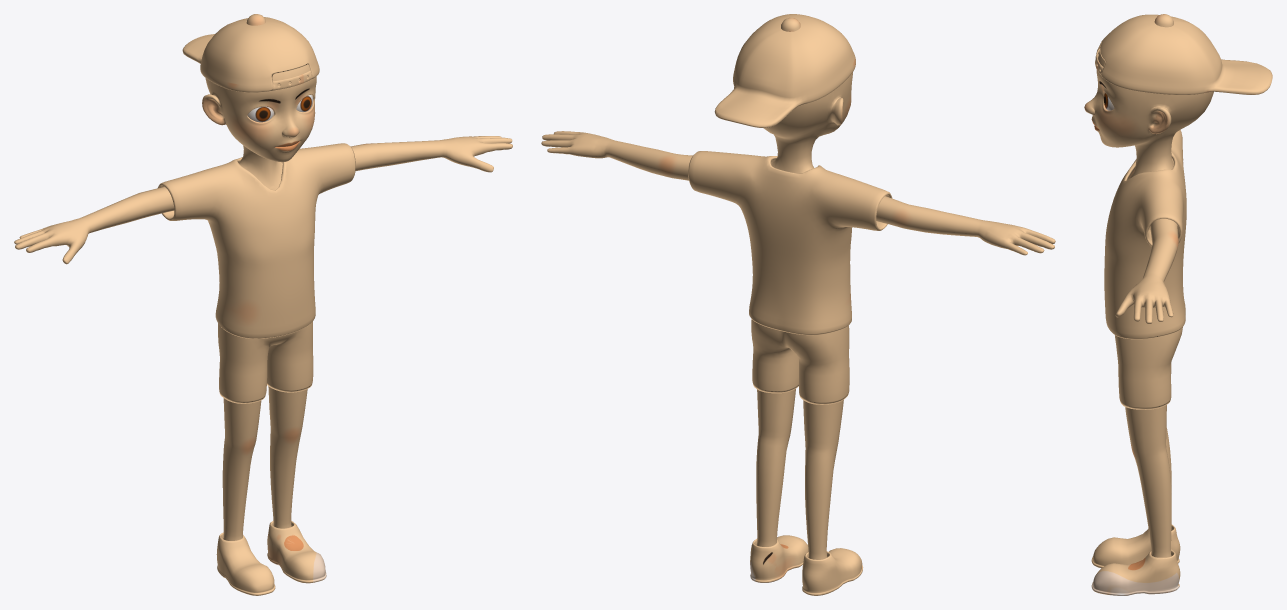
Rendered from Character_1.fbx.
3 renders of one model, left to right at view 1: azimuth 30°, elevation 25°; view 2: azimuth 150°, elevation 25°; view 3: azimuth 270°, elevation 25°, orthographic. The views are drawn at different scales.
Visible parts, largest first — view 1: Shirt, Face, HatBase, Pants, Leg_Left, Arm_Left, Leg_Right, Arm_Right, Shoe_Right, Shoe_Left; view 2: Shirt, HatBase, Pants, Leg_Left, Leg_Right, Arm_Left, Face, Arm_Right, Shoe_Left, Shoe_Right; view 3: Shirt, HatBase, Face, Leg_Right, Pants, Arm_Right, Shoe_Right, Shoe_Left.
Part boxes in pixels (bbox=[...]): Shirt: bbox=[158, 143, 355, 338]; Face: bbox=[202, 64, 316, 190]; HatBase: bbox=[182, 17, 319, 92]; Pants: bbox=[218, 321, 313, 403]; Leg_Left: bbox=[222, 398, 261, 540]; Arm_Left: bbox=[14, 186, 174, 264]; Leg_Right: bbox=[268, 386, 307, 528]; Arm_Right: bbox=[350, 136, 512, 172]; Shoe_Right: bbox=[267, 521, 326, 583]; Shoe_Left: bbox=[216, 532, 275, 595]; Shirt: bbox=[688, 151, 892, 335]; HatBase: bbox=[714, 14, 855, 127]; Pants: bbox=[751, 319, 849, 404]; Leg_Left: bbox=[803, 400, 843, 559]; Leg_Right: bbox=[756, 389, 795, 546]; Arm_Left: bbox=[876, 196, 1055, 255]; Face: bbox=[763, 72, 852, 173]; Arm_Right: bbox=[541, 131, 692, 180]; Shoe_Left: bbox=[802, 548, 862, 595]; Shoe_Right: bbox=[750, 535, 808, 582]; Shirt: bbox=[1104, 130, 1186, 339]; HatBase: bbox=[1095, 14, 1272, 94]; Face: bbox=[1084, 52, 1213, 178]; Leg_Right: bbox=[1125, 405, 1171, 557]; Pants: bbox=[1115, 327, 1182, 409]; Arm_Right: bbox=[1115, 218, 1178, 323]; Shoe_Right: bbox=[1091, 549, 1180, 595]; Shoe_Left: bbox=[1091, 524, 1180, 568].
Bounding box in the file's own units: 105 × 110 × 33.68.
